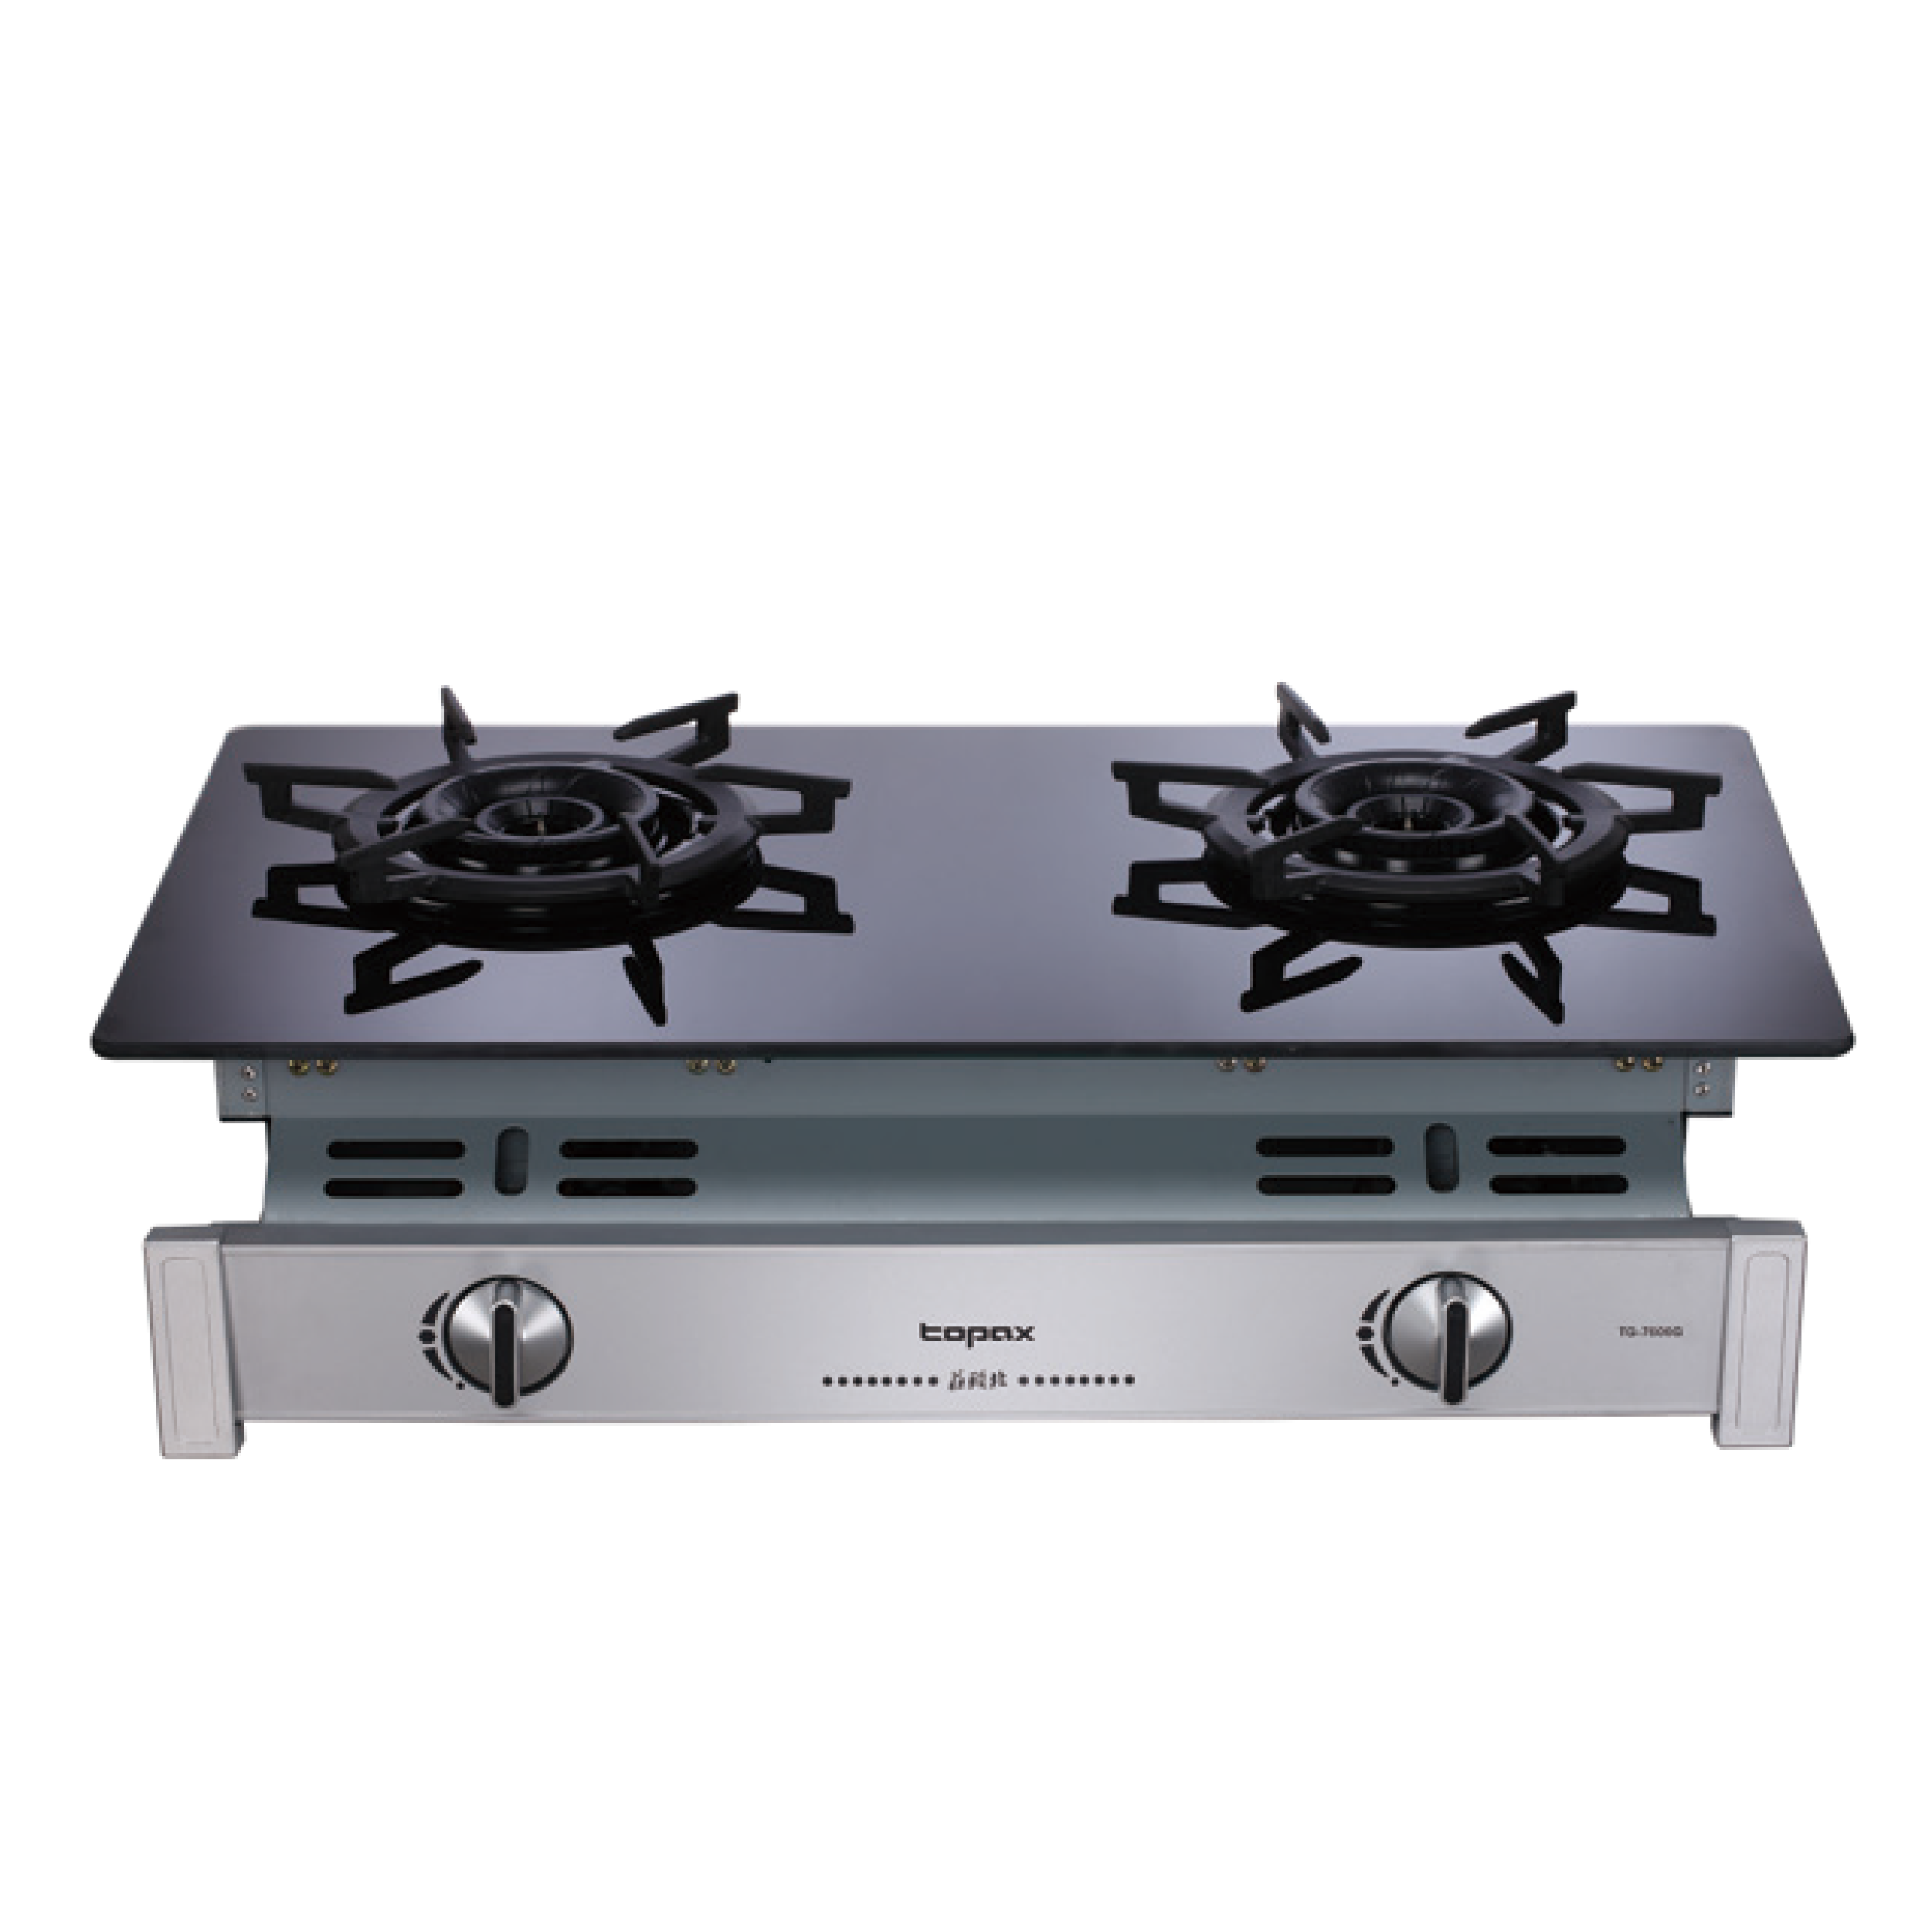gasoven: (85, 674, 1865, 1481)
